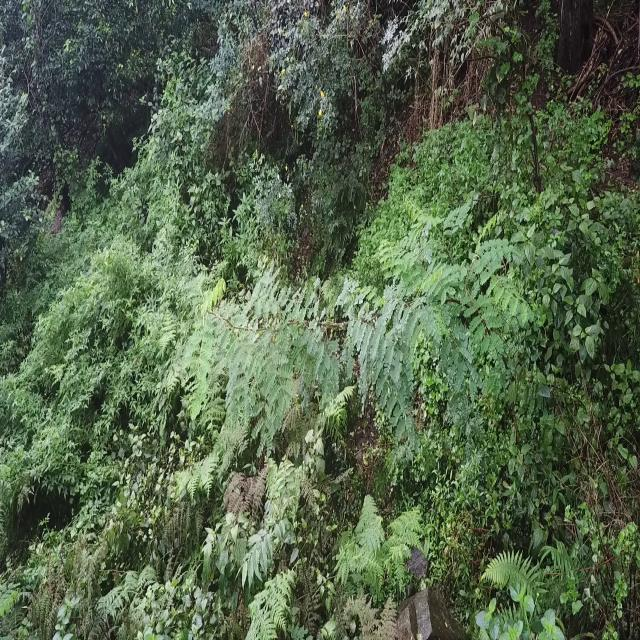Mysore-Thorn-Weed: (333, 210, 541, 458), (150, 244, 357, 446)
